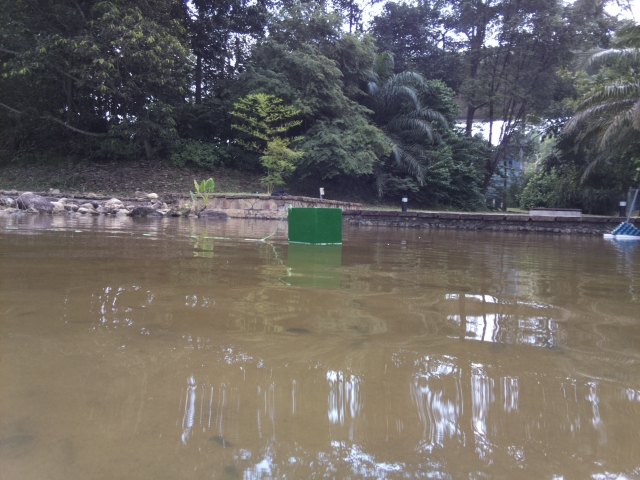obstacle: (286, 206, 345, 247)
